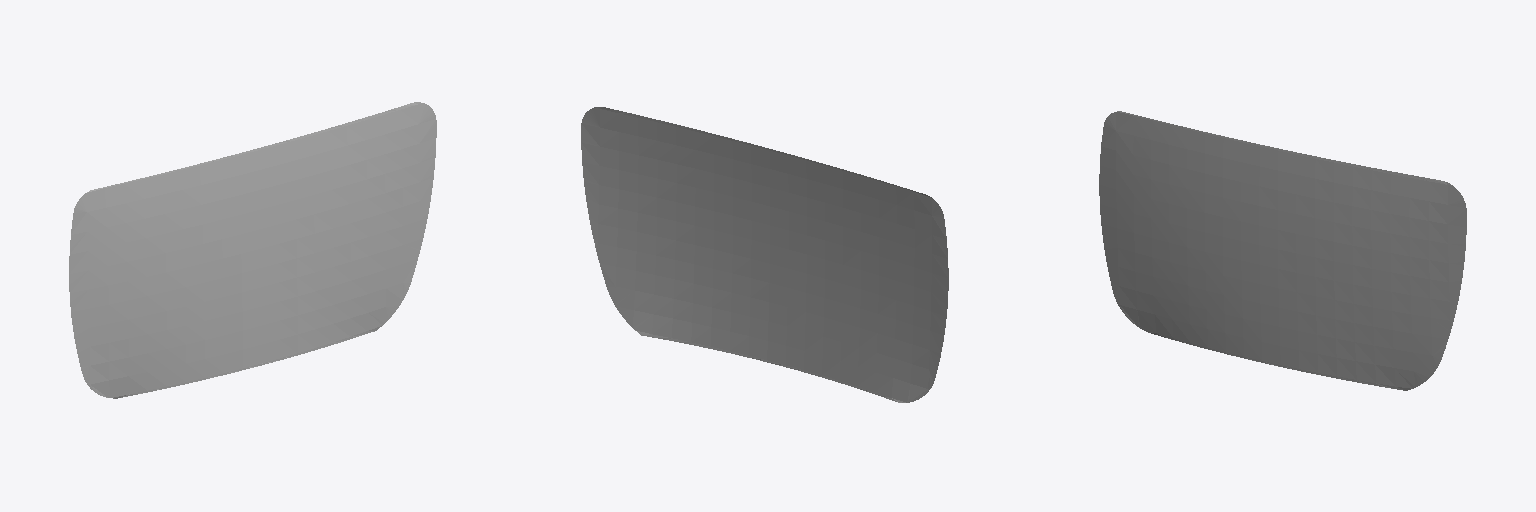
The model's file is original-5.obj.
The picture shows the model from 3 angles: view 1: azimuth 30°, elevation 25°; view 2: azimuth 150°, elevation 25°; view 3: azimuth 330°, elevation 25°; orthographic projection.
Visible parts, largest first — view 1: Group3/mesh3/mesh3-geometry#mesh3-geometry; view 2: Group3/mesh3/mesh3-geometry#mesh3-geometry; view 3: Group3/mesh3/mesh3-geometry#mesh3-geometry.
Part boxes in pixels (left/top/right/bottom): Group3/mesh3/mesh3-geometry#mesh3-geometry: left=69, top=102, right=436, bottom=398; Group3/mesh3/mesh3-geometry#mesh3-geometry: left=581, top=107, right=948, bottom=402; Group3/mesh3/mesh3-geometry#mesh3-geometry: left=1099, top=111, right=1466, bottom=390.
Bounding box in the file's own units: 0.4765 × 0.2774 × 0.0141.